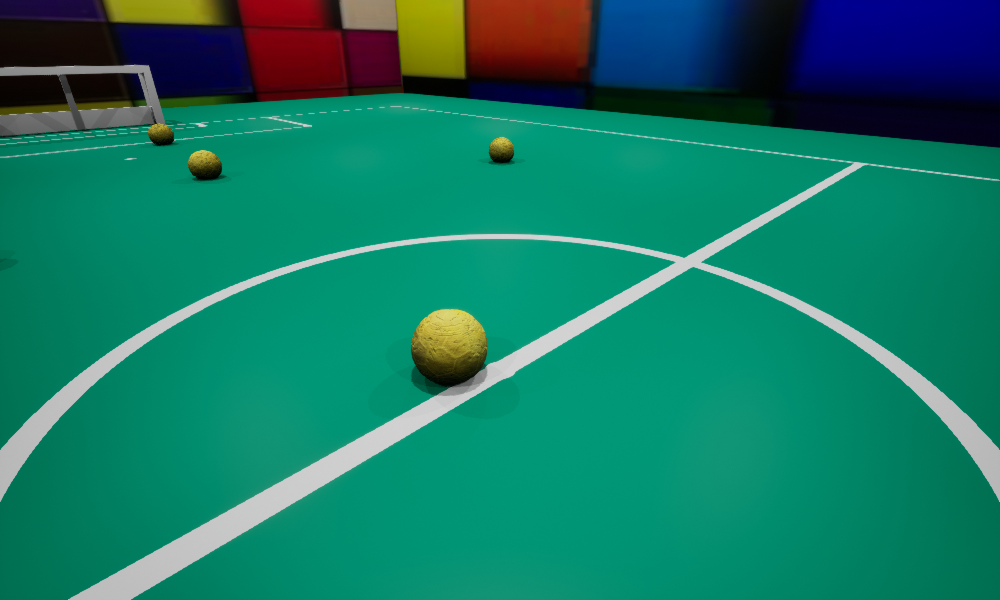b: (411, 309, 487, 384), (188, 150, 221, 179), (489, 137, 513, 162), (148, 123, 173, 143)
g: (0, 65, 165, 135)
